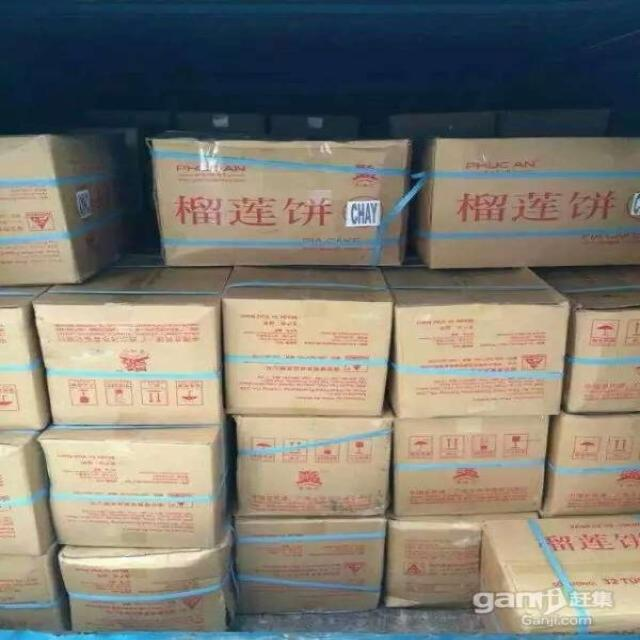Carton: (0, 131, 406, 517), (393, 307, 639, 517), (380, 138, 639, 306), (36, 424, 229, 635), (481, 517, 639, 618), (233, 520, 382, 618)
